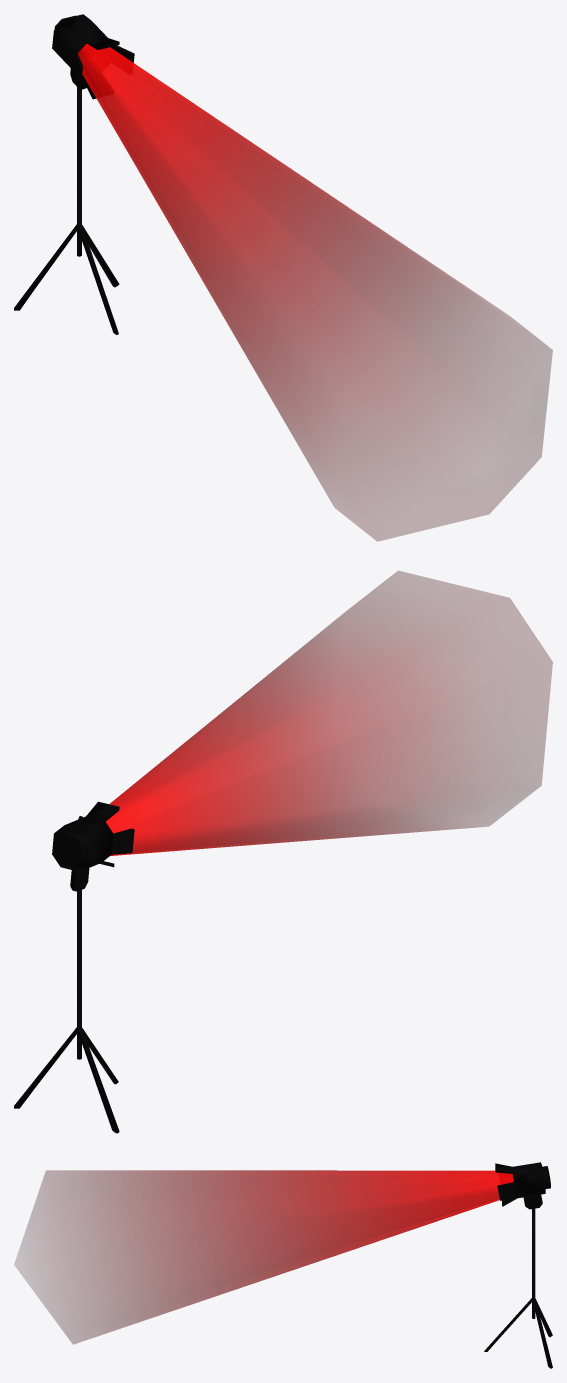
Rendered from LightingStandOnRed.glb.
3 views of the same model, one above another, from view 1: azimuth 30°, elevation 25°; view 2: azimuth 150°, elevation 25°; view 3: azimuth 270°, elevation 25° (orthographic). The views are drawn at different scales.
Visible parts, largest first — view 1: LightingStandOnRed; view 2: LightingStandOnRed; view 3: LightingStandOnRed.
Part boxes in pixels (<box>): LightingStandOnRed: <box>14,14,552,541</box>; LightingStandOnRed: <box>14,571,552,1133</box>; LightingStandOnRed: <box>14,1162,552,1368</box>.
Bounding box in the file's own units: 2.58 × 3.41 × 8.91.
2 materials, 2 textured.
